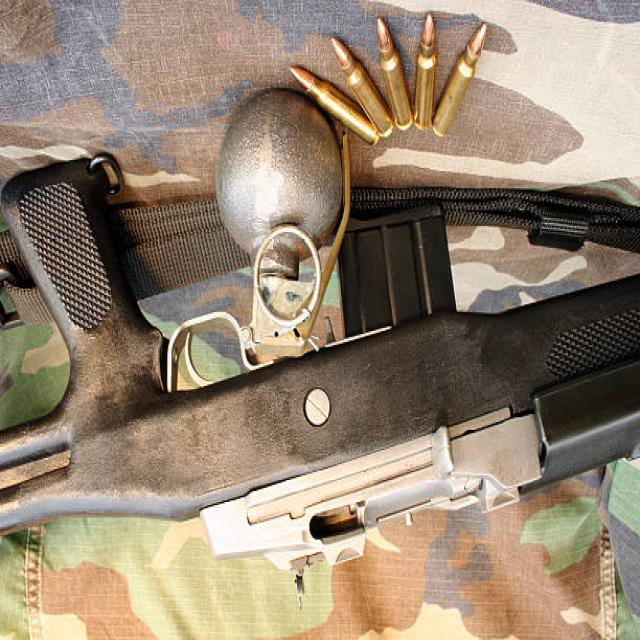grenade: (217, 86, 360, 359)
